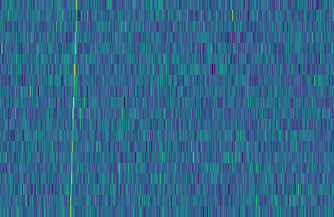signal: (63, 0, 78, 217)
